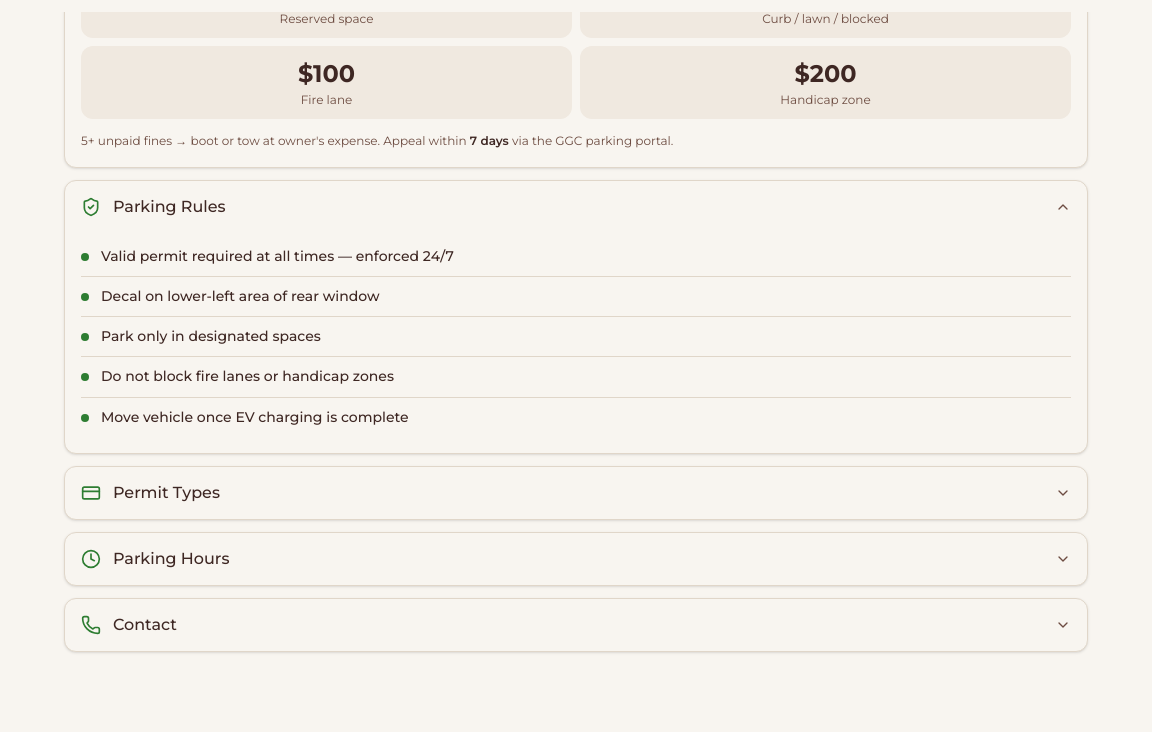
Test case: InfoPage › contains contact information
(page scrolled)
Click the button "Contact" at (145, 624), box [65, 599, 1087, 651]
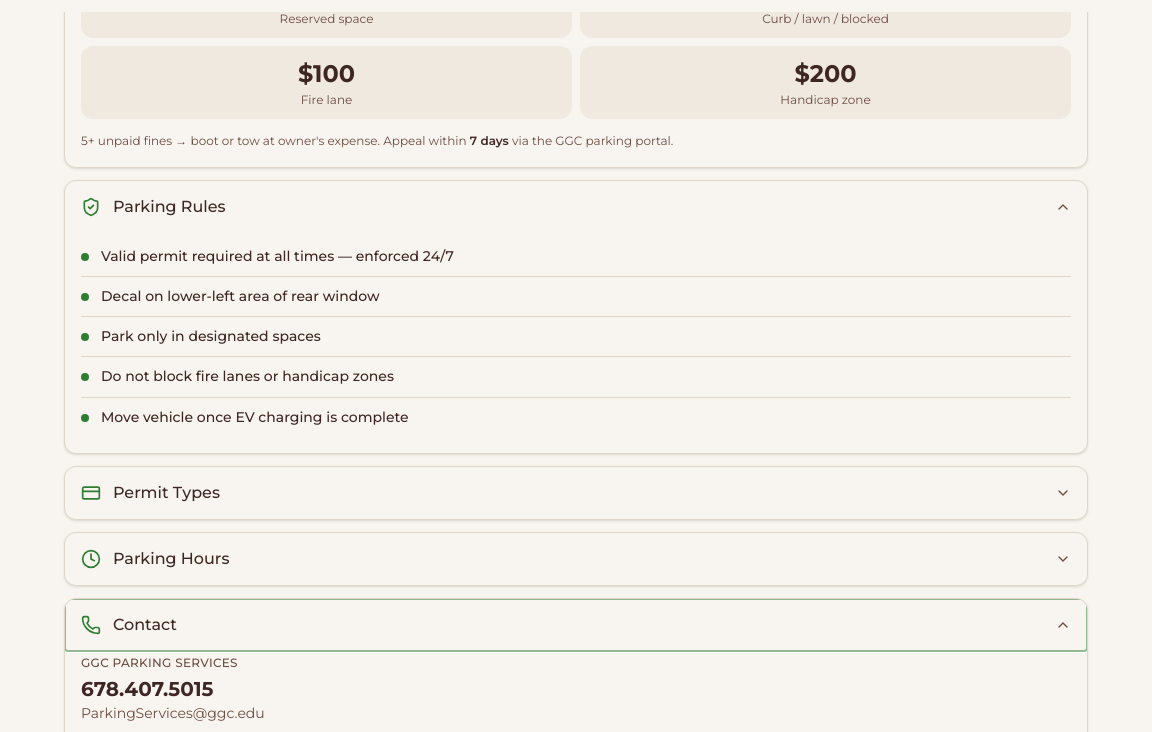
expect the text "GGC Parking Services" is shown: met, box [81, 655, 238, 670]
expect the text "678.407.5015" is shown: met, box [81, 677, 214, 701]
